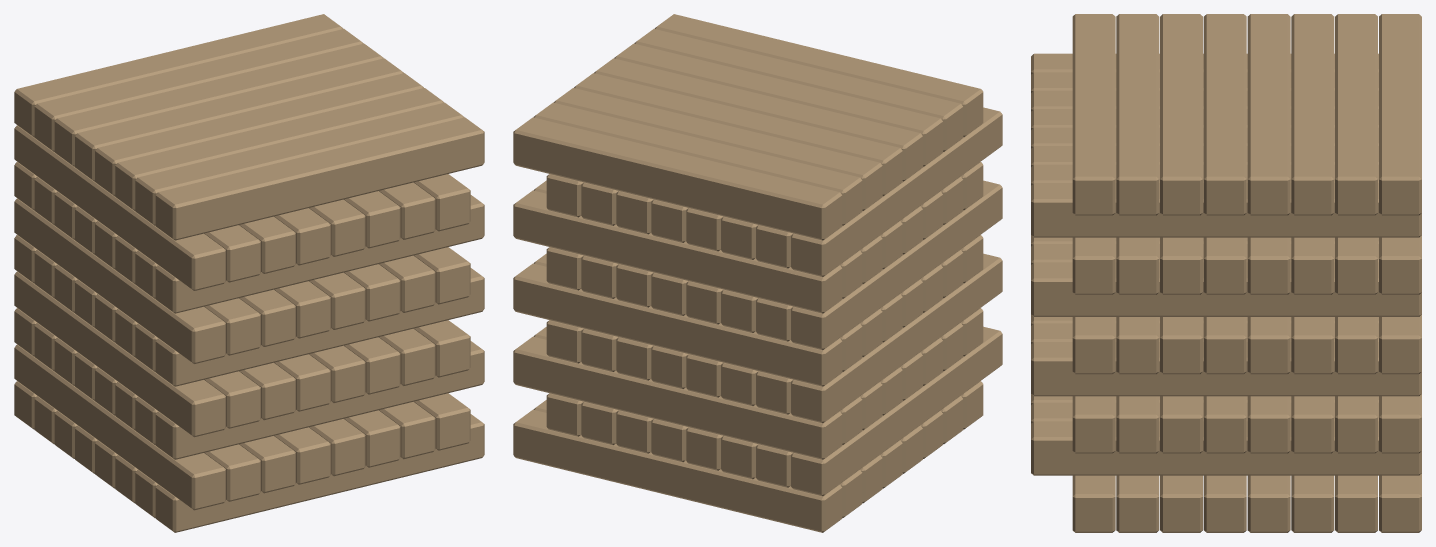
Rendered from sleeper_stack.glb.
3 views of the same model, side by side, from view 1: azimuth 30°, elevation 25°; view 2: azimuth 150°, elevation 25°; view 3: azimuth 270°, elevation 25° (orthographic). The views are drawn at different scales.
Visible parts, largest first — view 1: sleeper_stack; view 2: sleeper_stack; view 3: sleeper_stack.
Part boxes in pixels (box(x1,y1,x2,y2)): sleeper_stack: box(14, 14, 484, 532); sleeper_stack: box(513, 14, 1002, 532); sleeper_stack: box(1031, 14, 1421, 532).
Size of the model in its own units: 2 by 2.01 by 2.
